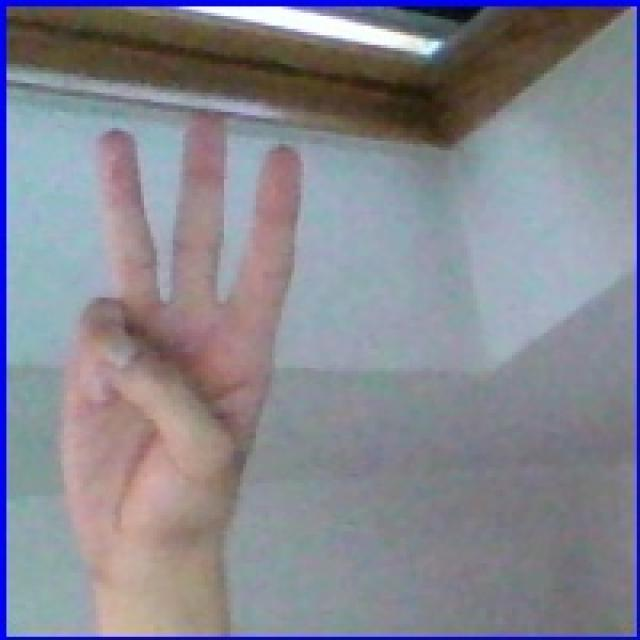Letra-W: (34, 92, 340, 578)
